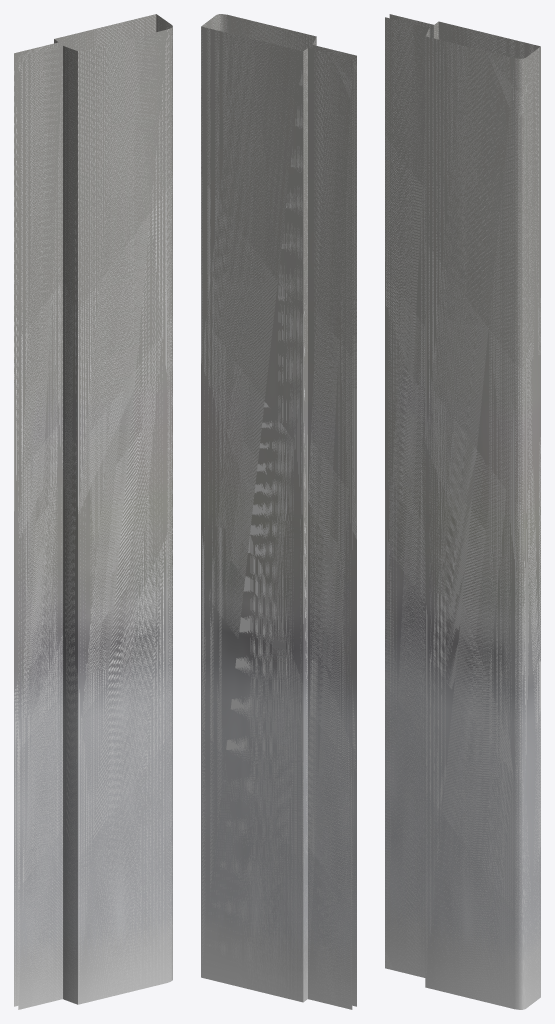
The model's file is original-33.obj.
3 renders of one model, left to right at view 1: azimuth 30°, elevation 25°; view 2: azimuth 150°, elevation 25°; view 3: azimuth 330°, elevation 25°, orthographic.
Parts seen in each view (by area): view 1: LT_21_CR1/LT_21_CR/mesh27/mesh27-geometry#mesh27-geometry; view 2: LT_21_CR1/LT_21_CR/mesh27/mesh27-geometry#mesh27-geometry; view 3: LT_21_CR1/LT_21_CR/mesh27/mesh27-geometry#mesh27-geometry.
Boxes of the visible parts, x1,y1,x2,y2 form: LT_21_CR1/LT_21_CR/mesh27/mesh27-geometry#mesh27-geometry: (14, 14, 172, 1009); LT_21_CR1/LT_21_CR/mesh27/mesh27-geometry#mesh27-geometry: (201, 14, 356, 1009); LT_21_CR1/LT_21_CR/mesh27/mesh27-geometry#mesh27-geometry: (385, 14, 540, 1009).
Bounding box in the file's own units: 0.124 × 0.7661 × 0.0271.
